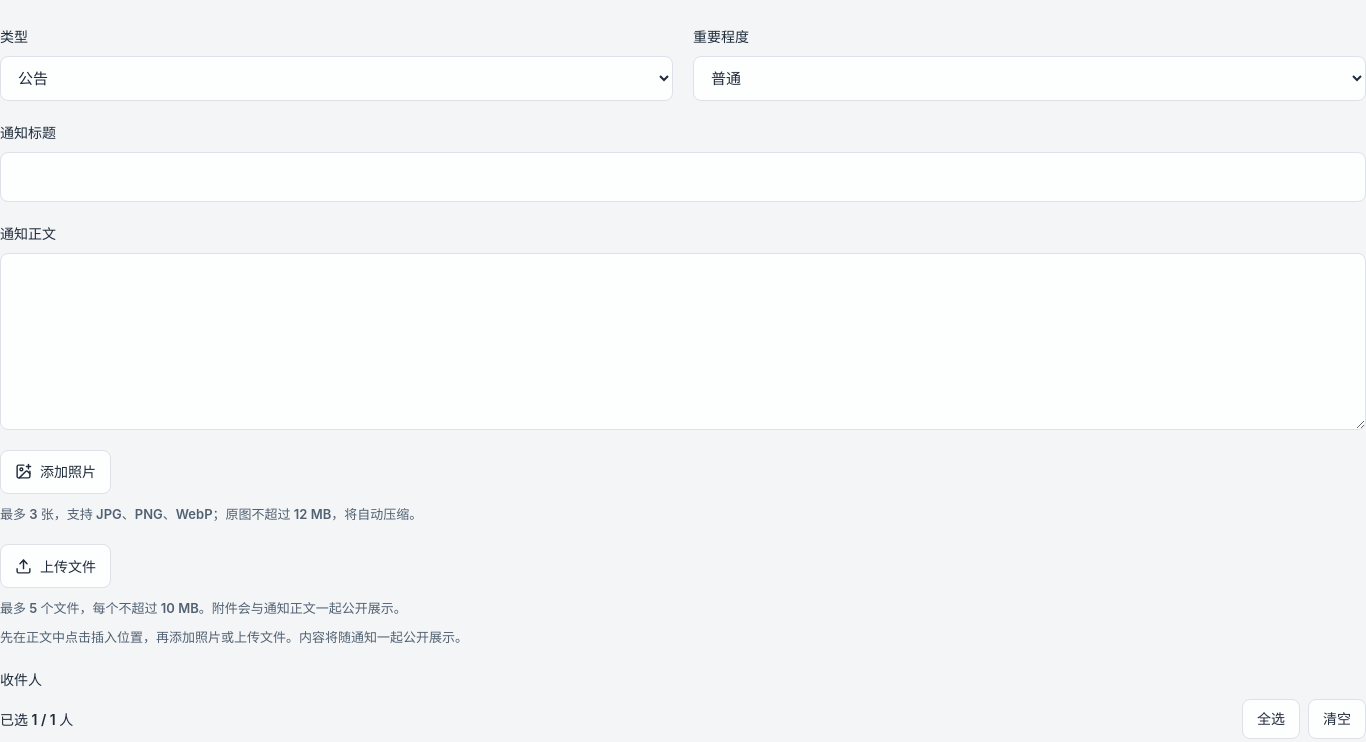
retains the saved draft and reuses its ID when direct publication fails
The image size is (1366, 742).
Expected: the text "已选 1 / 1 人" is shown, [0, 708, 73, 731]
In the field labelled "通知标题": (683, 177) [0, 152, 1365, 202], type "重试通知"
In the text box labelled "通知正文": (683, 341) [0, 253, 1365, 430], type "保留正文"
(page scrolled)
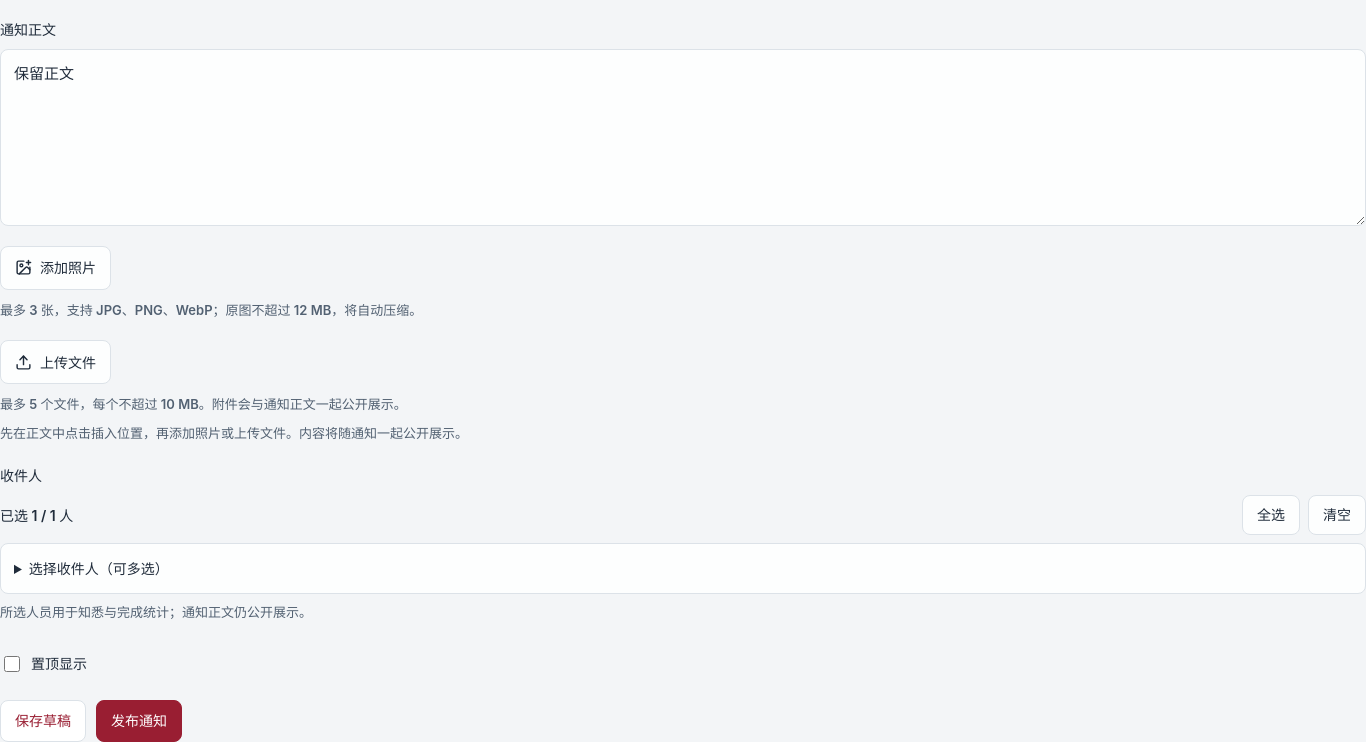
Click the button "发布通知": (139, 721) [96, 700, 182, 741]
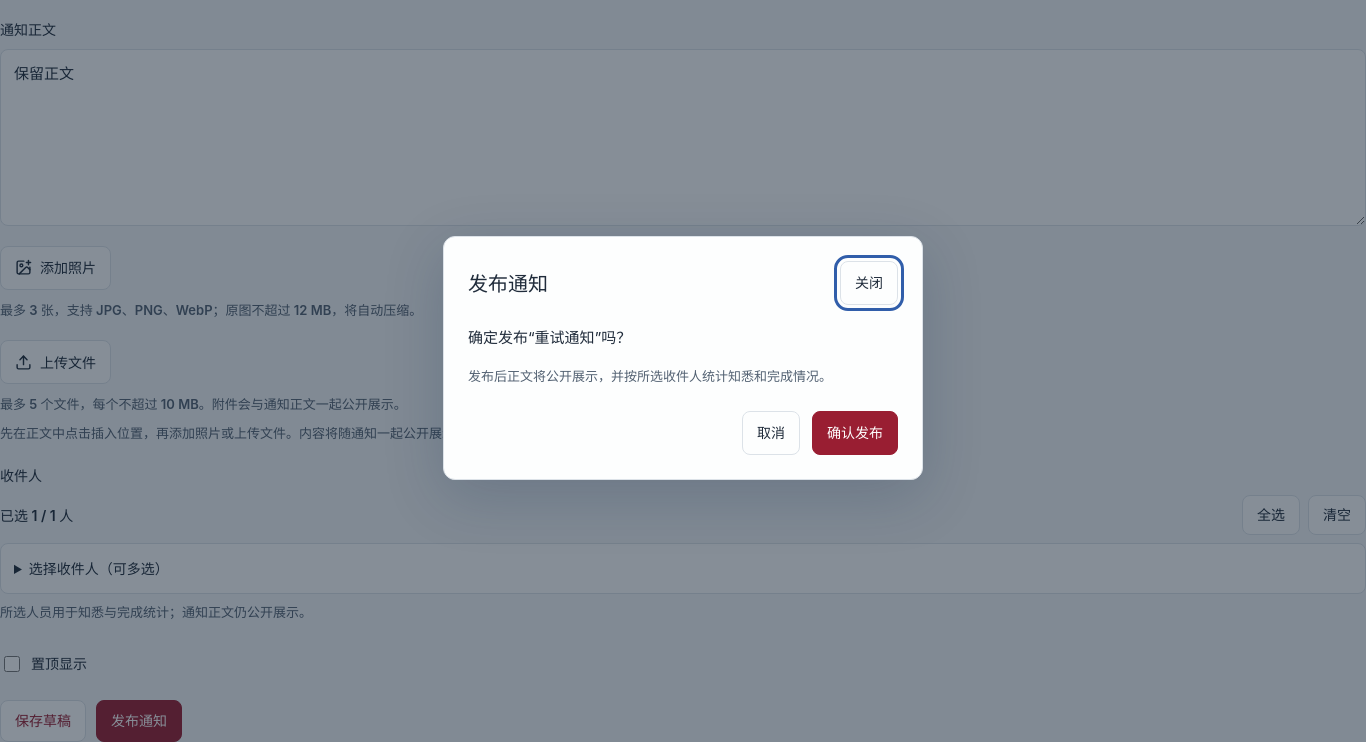
Click the button "确认发布": (855, 433) [812, 411, 898, 455]
(page scrolled)
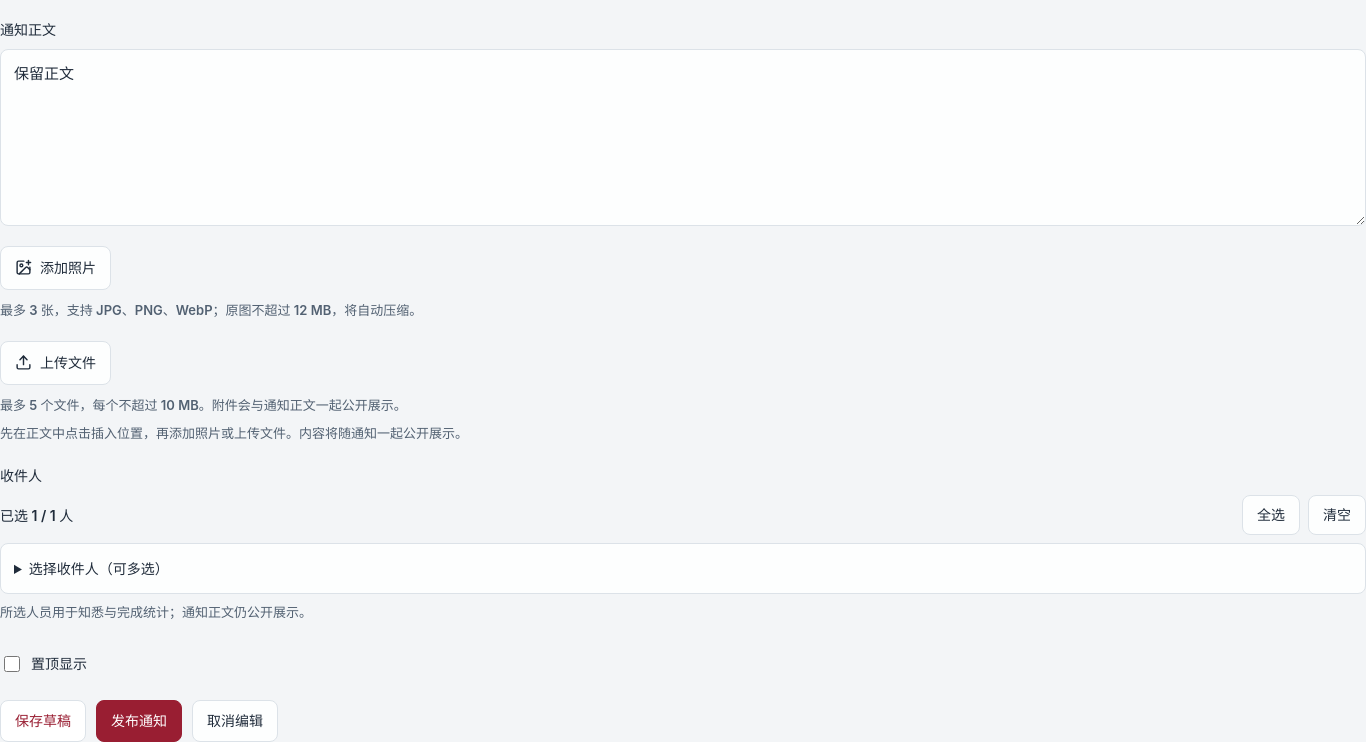
Click the button "发布通知": (139, 721) [96, 700, 182, 741]
(page scrolled)
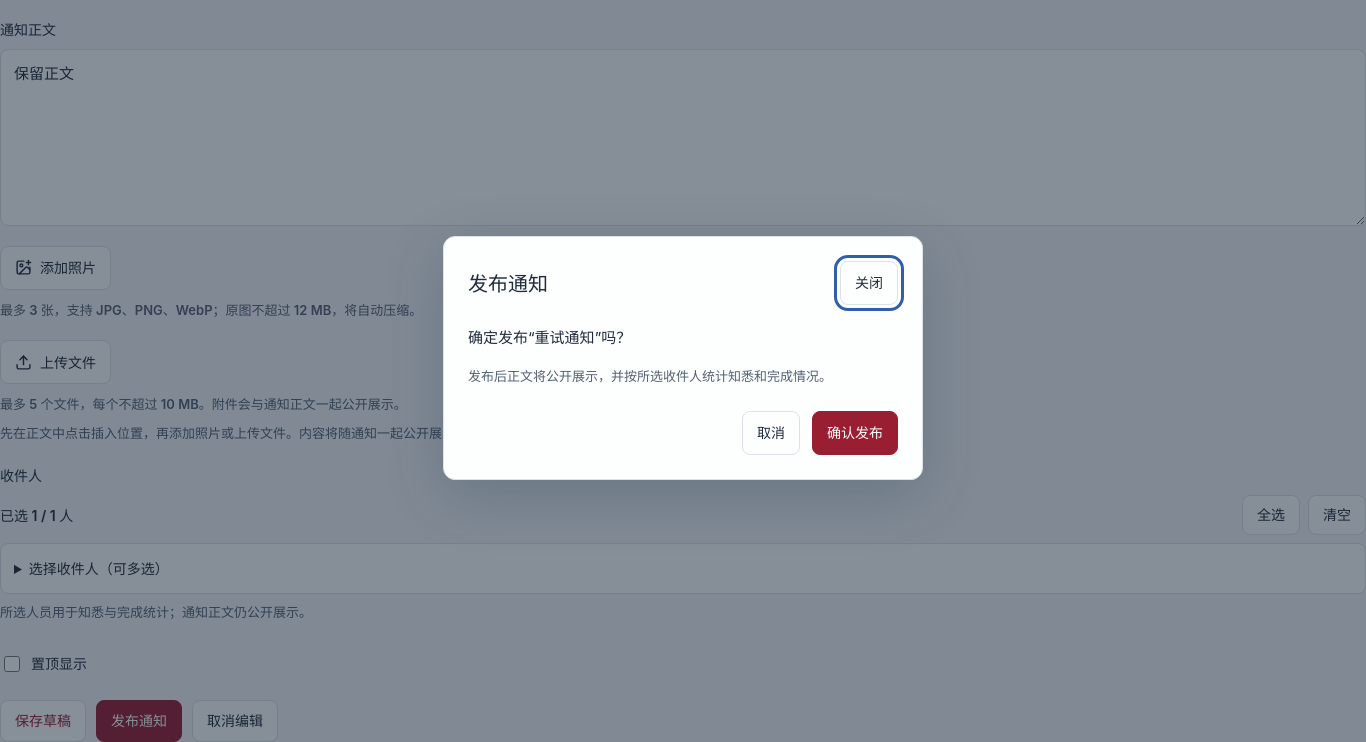
Click the button "确认发布": (855, 433) [812, 411, 898, 455]
(page scrolled)
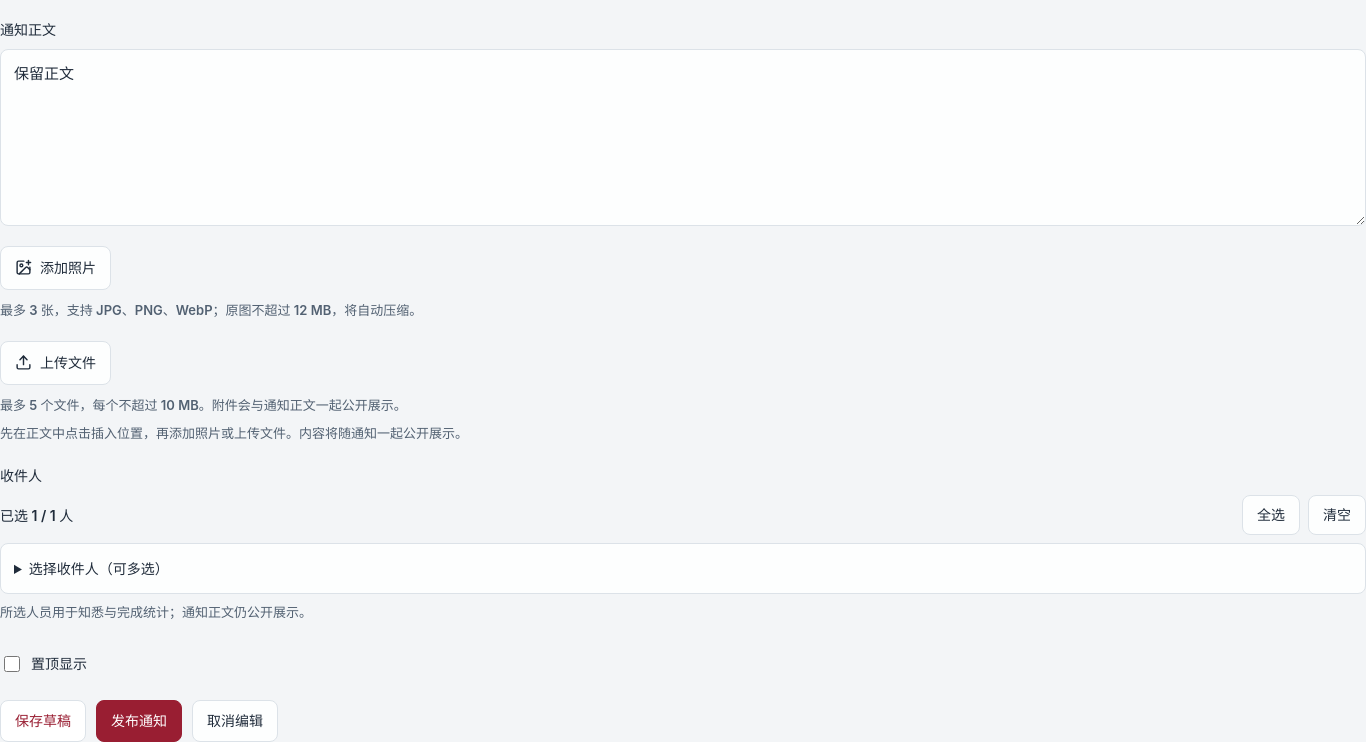
Click the button "取消编辑": (235, 721) [192, 700, 278, 741]
(page scrolled)
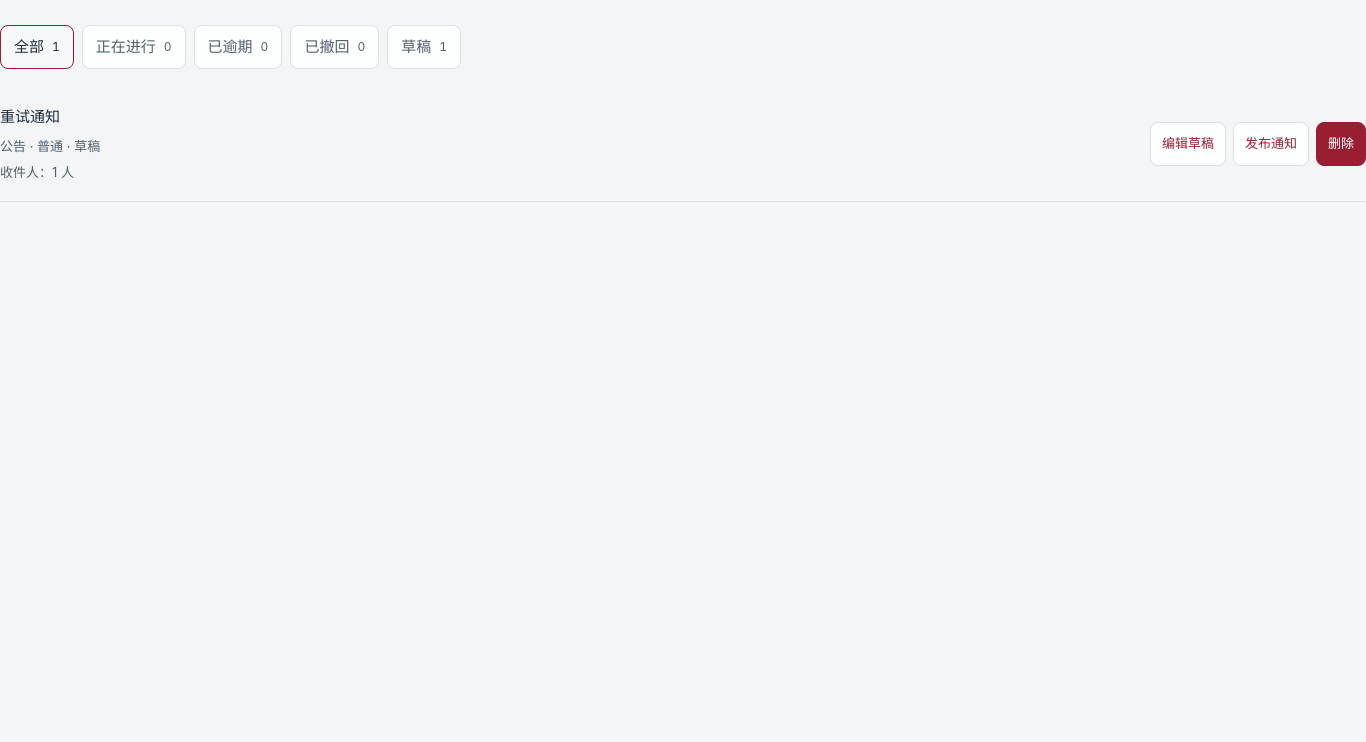
Now the text "重试通知" is shown, box [0, 107, 60, 126]
